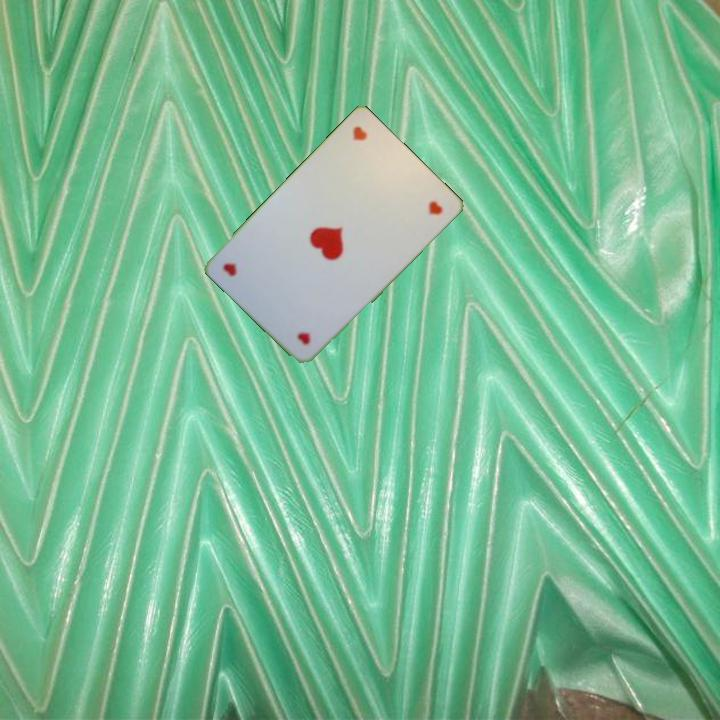h_a.png: (258, 270, 344, 356), (322, 117, 408, 203)
